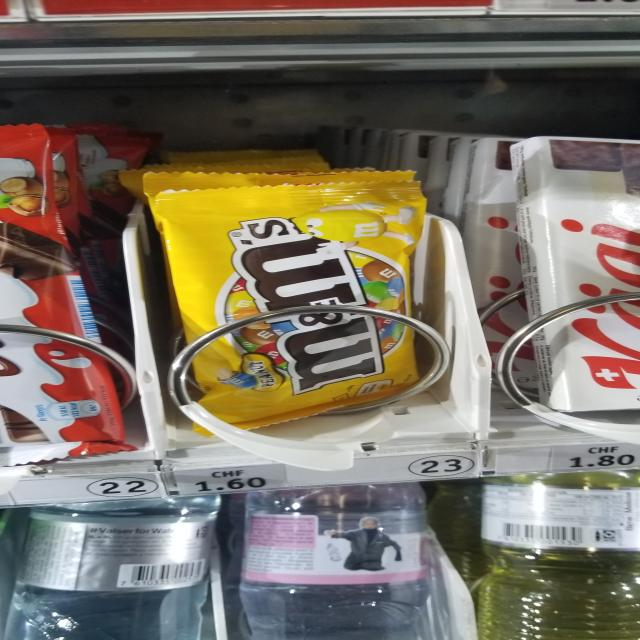mnms_gelb__45__40111445: (173, 166, 434, 440)
